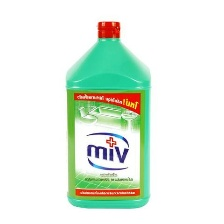cleaning_solution: (63, 19, 153, 213)
